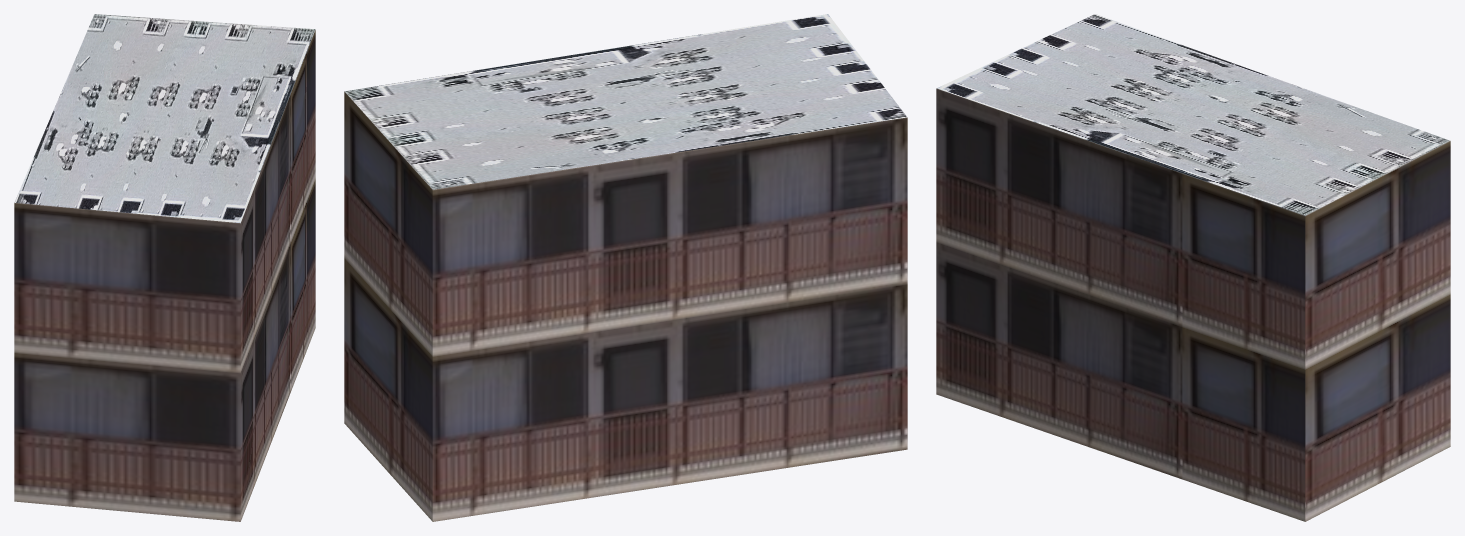
The model's file is ResTex__1195.fbx.
3 views of the same model, side by side, from view 1: azimuth 30°, elevation 25°; view 2: azimuth 150°, elevation 25°; view 3: azimuth 270°, elevation 25° (orthographic). The views are drawn at different scales.
Visible parts, largest first — view 1: CityEngineMaterial_6_m, CityEngineMaterial_8_m; view 2: CityEngineMaterial_6_m, CityEngineMaterial_8_m; view 3: CityEngineMaterial_6_m, CityEngineMaterial_8_m.
Part boxes in pixels (bbox=[...]): CityEngineMaterial_6_m: bbox=[14, 30, 315, 521]; CityEngineMaterial_8_m: bbox=[14, 14, 315, 223]; CityEngineMaterial_6_m: bbox=[344, 91, 907, 521]; CityEngineMaterial_8_m: bbox=[345, 14, 907, 189]; CityEngineMaterial_6_m: bbox=[936, 88, 1450, 521]; CityEngineMaterial_8_m: bbox=[937, 14, 1449, 215].
Size of the model in its own units: 8.49 by 6 by 9.13.
2 materials, 2 textured.
